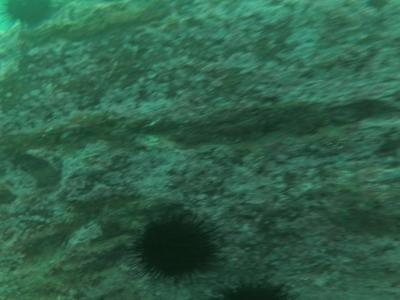urchin: (136, 212, 216, 282), (224, 280, 290, 297), (4, 4, 49, 21)
